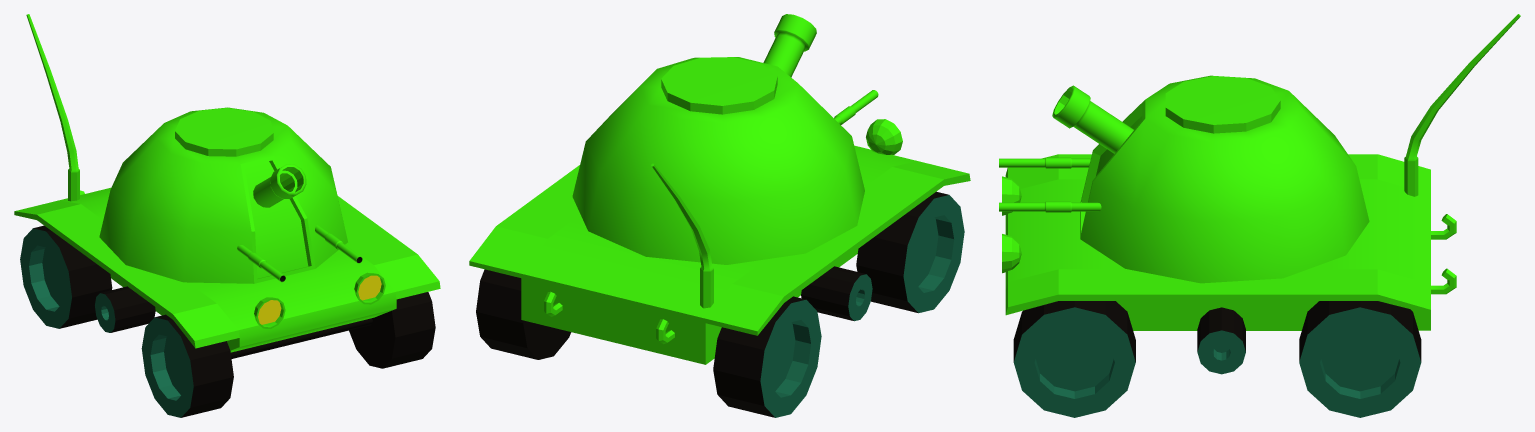
Rendered from hero_0.FBX.
3 renders of one model, left to right at view 1: azimuth 30°, elevation 25°; view 2: azimuth 150°, elevation 25°; view 3: azimuth 270°, elevation 25°, orthographic. The views are drawn at different scales.
Parts seen in each view (by area): view 1: turret, chassis, TankTracks, gun_1, gun_0; view 2: turret, chassis, TankTracks, gun_1, gun_0; view 3: turret, chassis, TankTracks, gun_1, gun_0.
Part boxes in pixels (x1,y1,x2,y2): turret: (99,107,347,283); chassis: (14,14,440,352); TankTracks: (20,225,435,417); gun_1: (253,164,306,207); gun_0: (237,225,362,282); turret: (572,57,864,264); chassis: (469,119,970,364); TankTracks: (476,191,964,417); gun_1: (763,14,816,77); gun_0: (834,90,878,124); turret: (1080,75,1369,283); chassis: (1002,14,1520,330); TankTracks: (1013,301,1421,417); gun_1: (1052,85,1133,153); gun_0: (999,157,1101,212).
Bounding box in the file's own units: 140 × 137 × 220.
